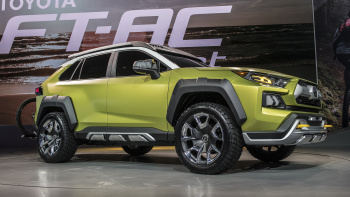Toyota RAV-4: (33, 40, 329, 176)
